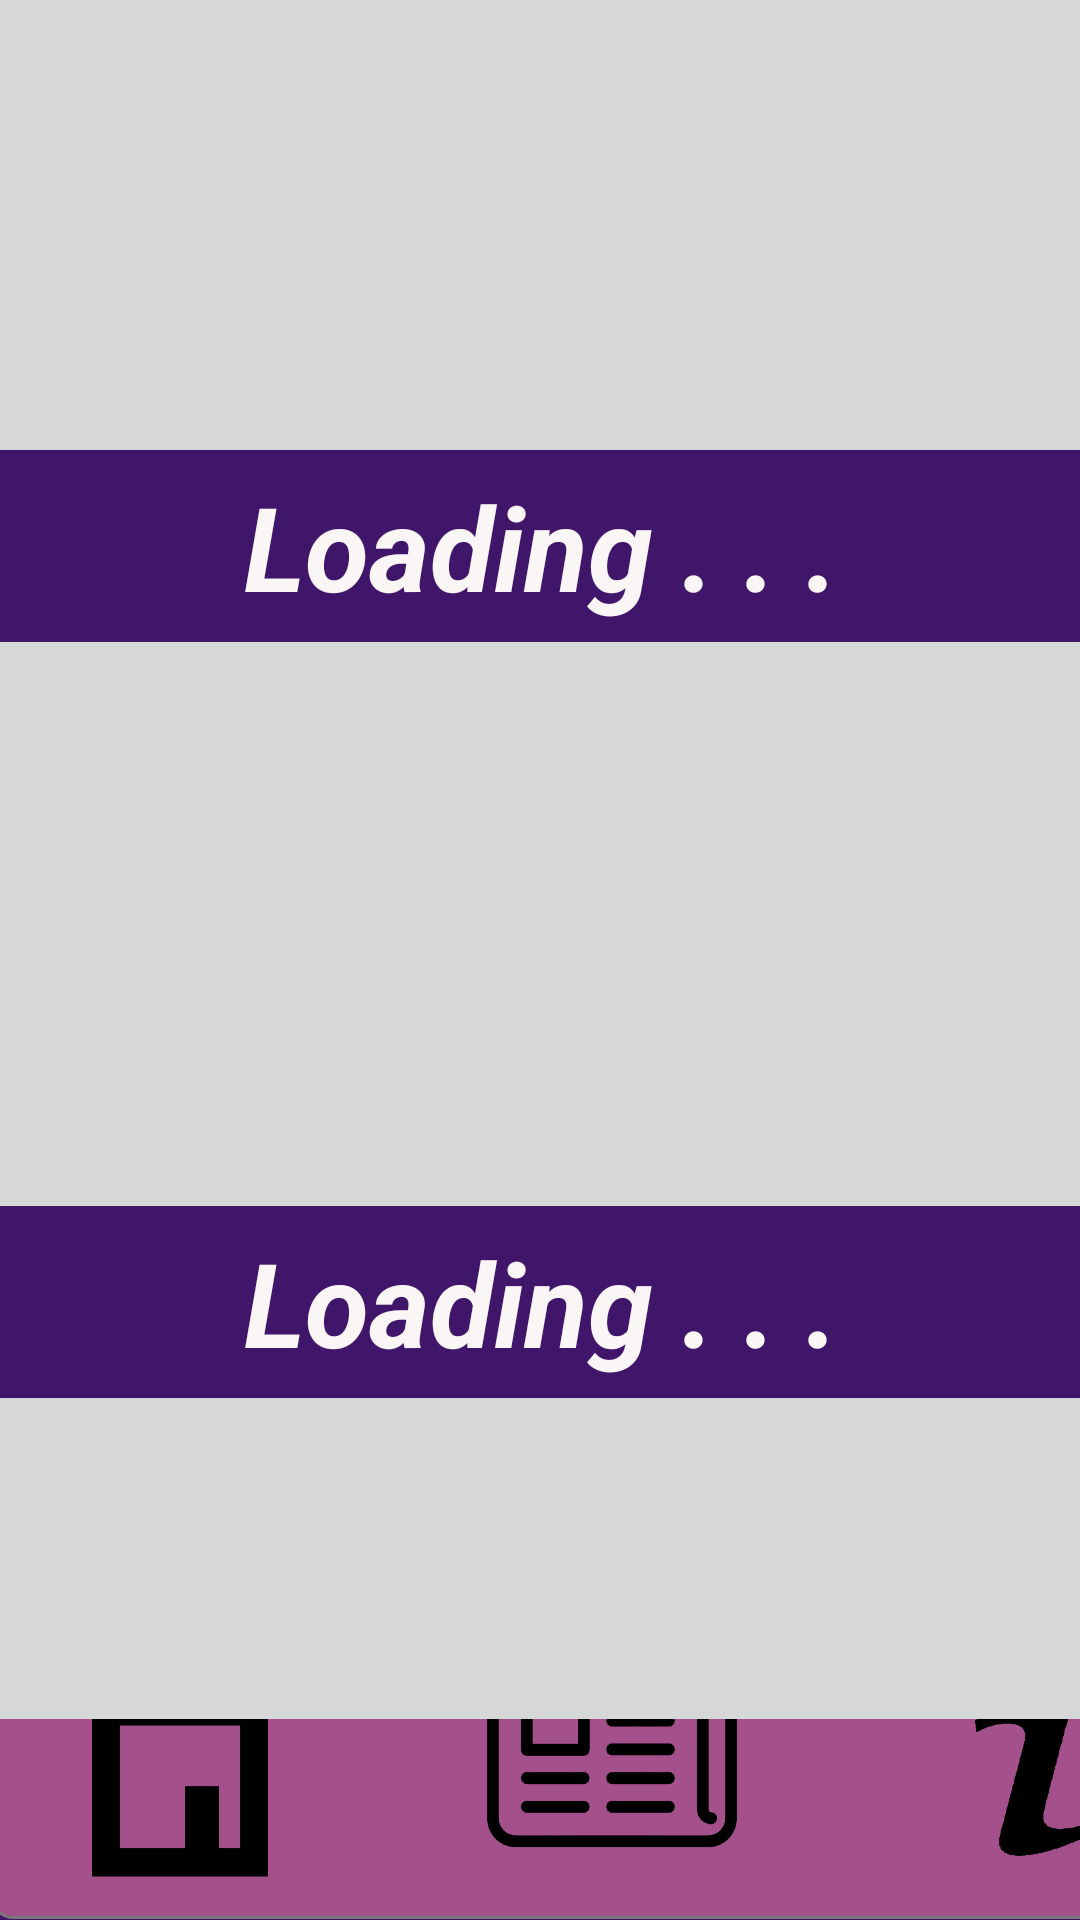

Named icons in this screenshot (1080×1920) and their centers, point (x, y):
homeiconnn: point (180, 1819)
